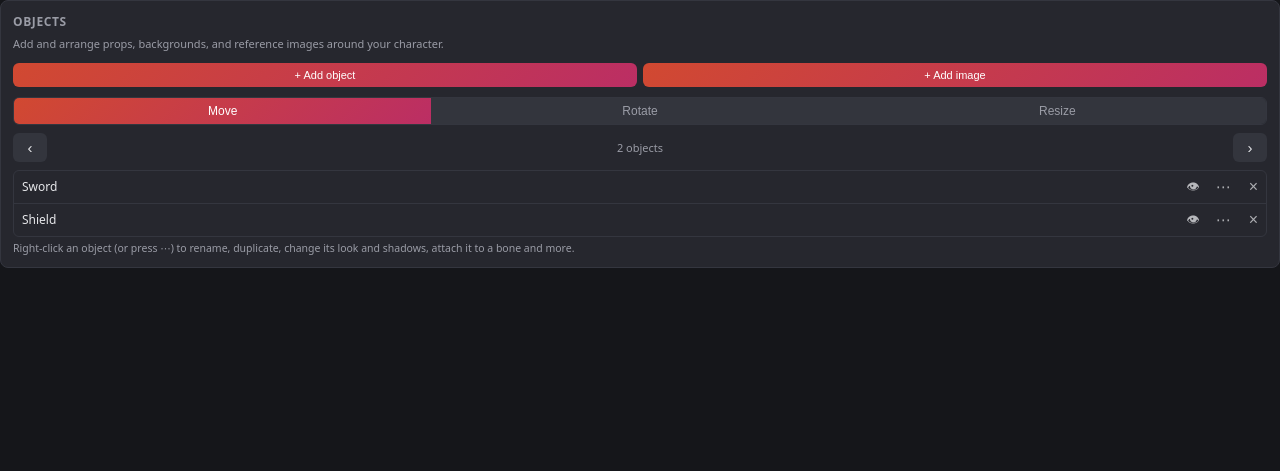
Test case: Objects list menu › Hide runs on the row, and the menu then offers Show
Step 1. Right-click the text "Sword" → [640, 187], box [14, 170, 1266, 204]
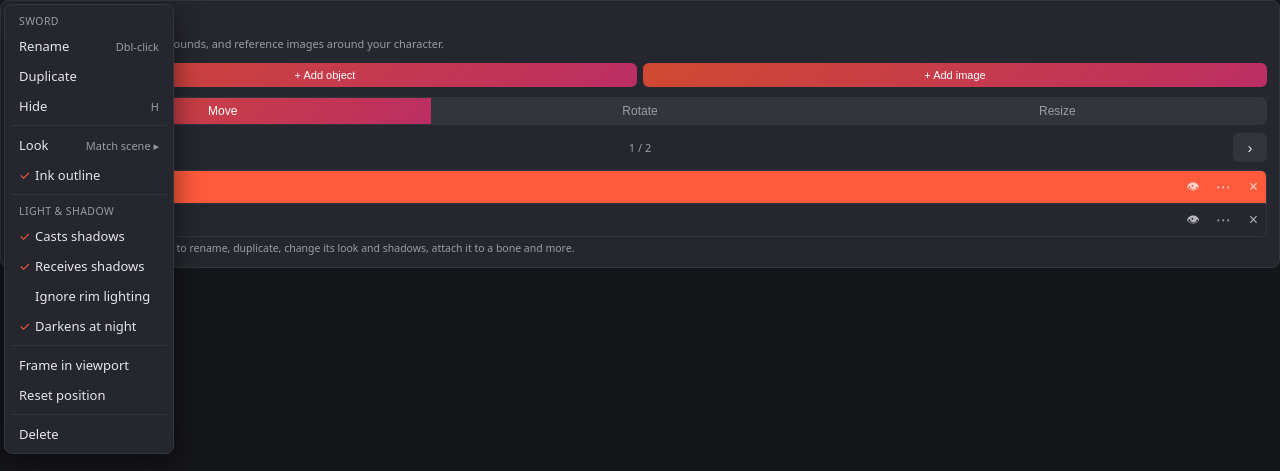
Step 2. Click the menu item "Hide H" → [89, 106], box [9, 91, 169, 121]
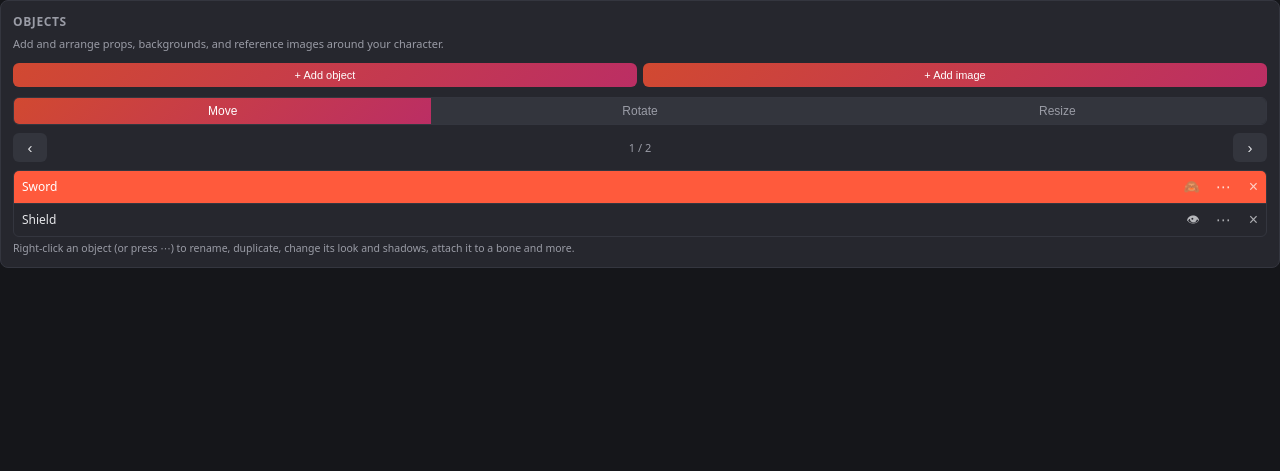
Step 3. Right-click the text "Sword" → [640, 187], box [14, 170, 1266, 204]
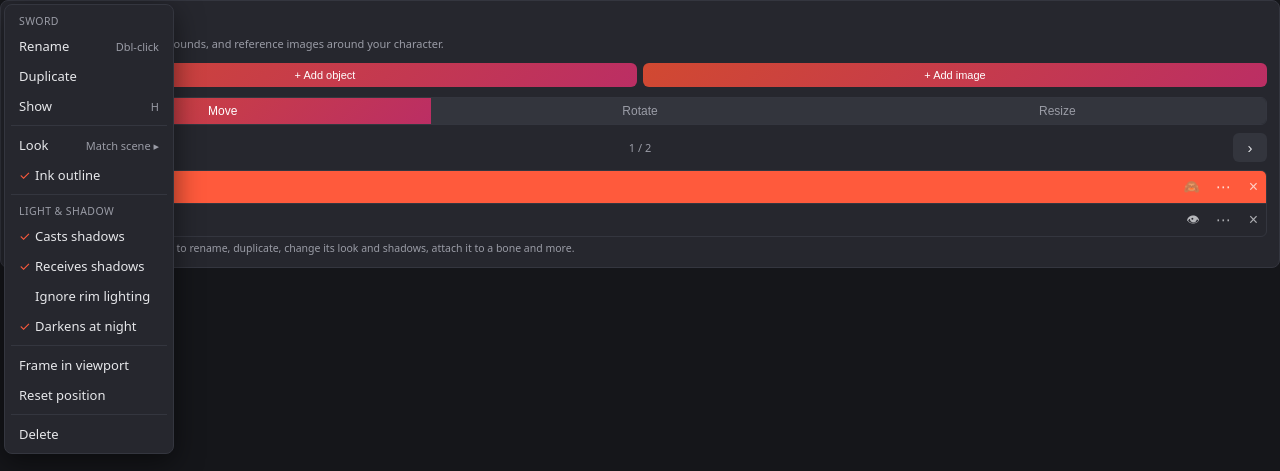
Result: the menu item "Show H" is shown at [9, 91, 169, 121]
